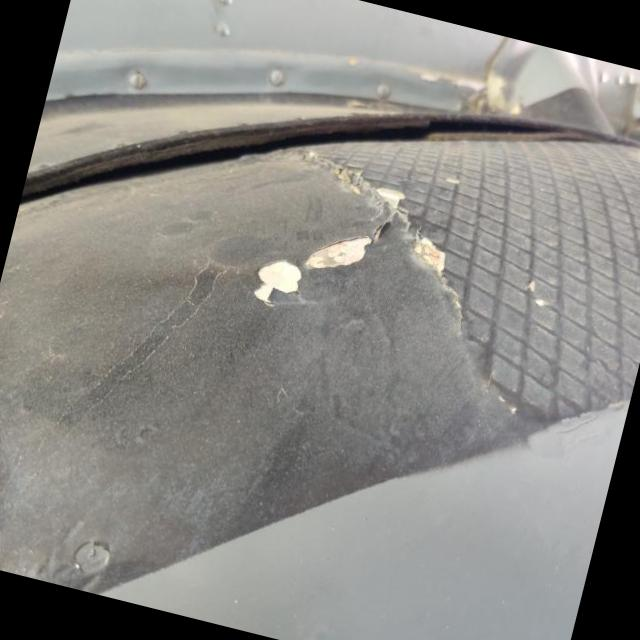Paint-off: (304, 222, 390, 268), (252, 260, 300, 305), (413, 234, 445, 275), (376, 188, 404, 209)
